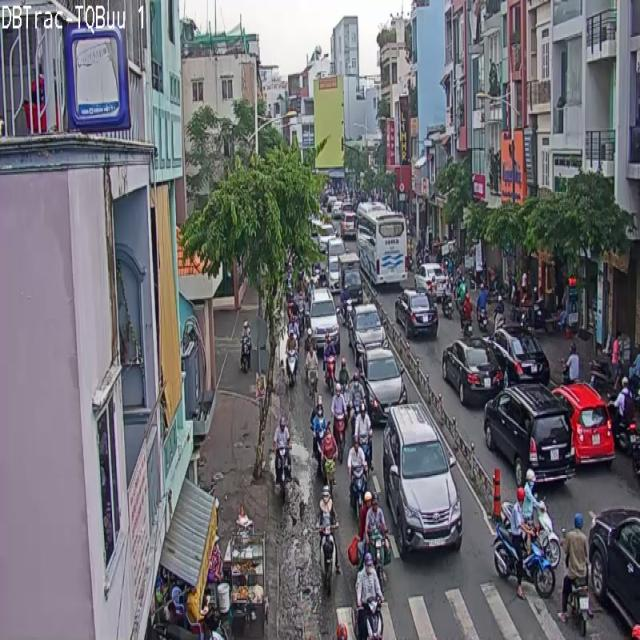car: (493, 484, 559, 597), (355, 553, 383, 639), (349, 439, 367, 516), (274, 415, 289, 492), (322, 536, 336, 592)
traffic-light: (383, 402, 462, 558), (483, 384, 574, 482), (552, 383, 614, 465), (442, 337, 501, 405), (486, 329, 550, 384), (366, 351, 406, 405), (395, 290, 438, 337), (309, 290, 338, 348), (351, 304, 385, 350)
